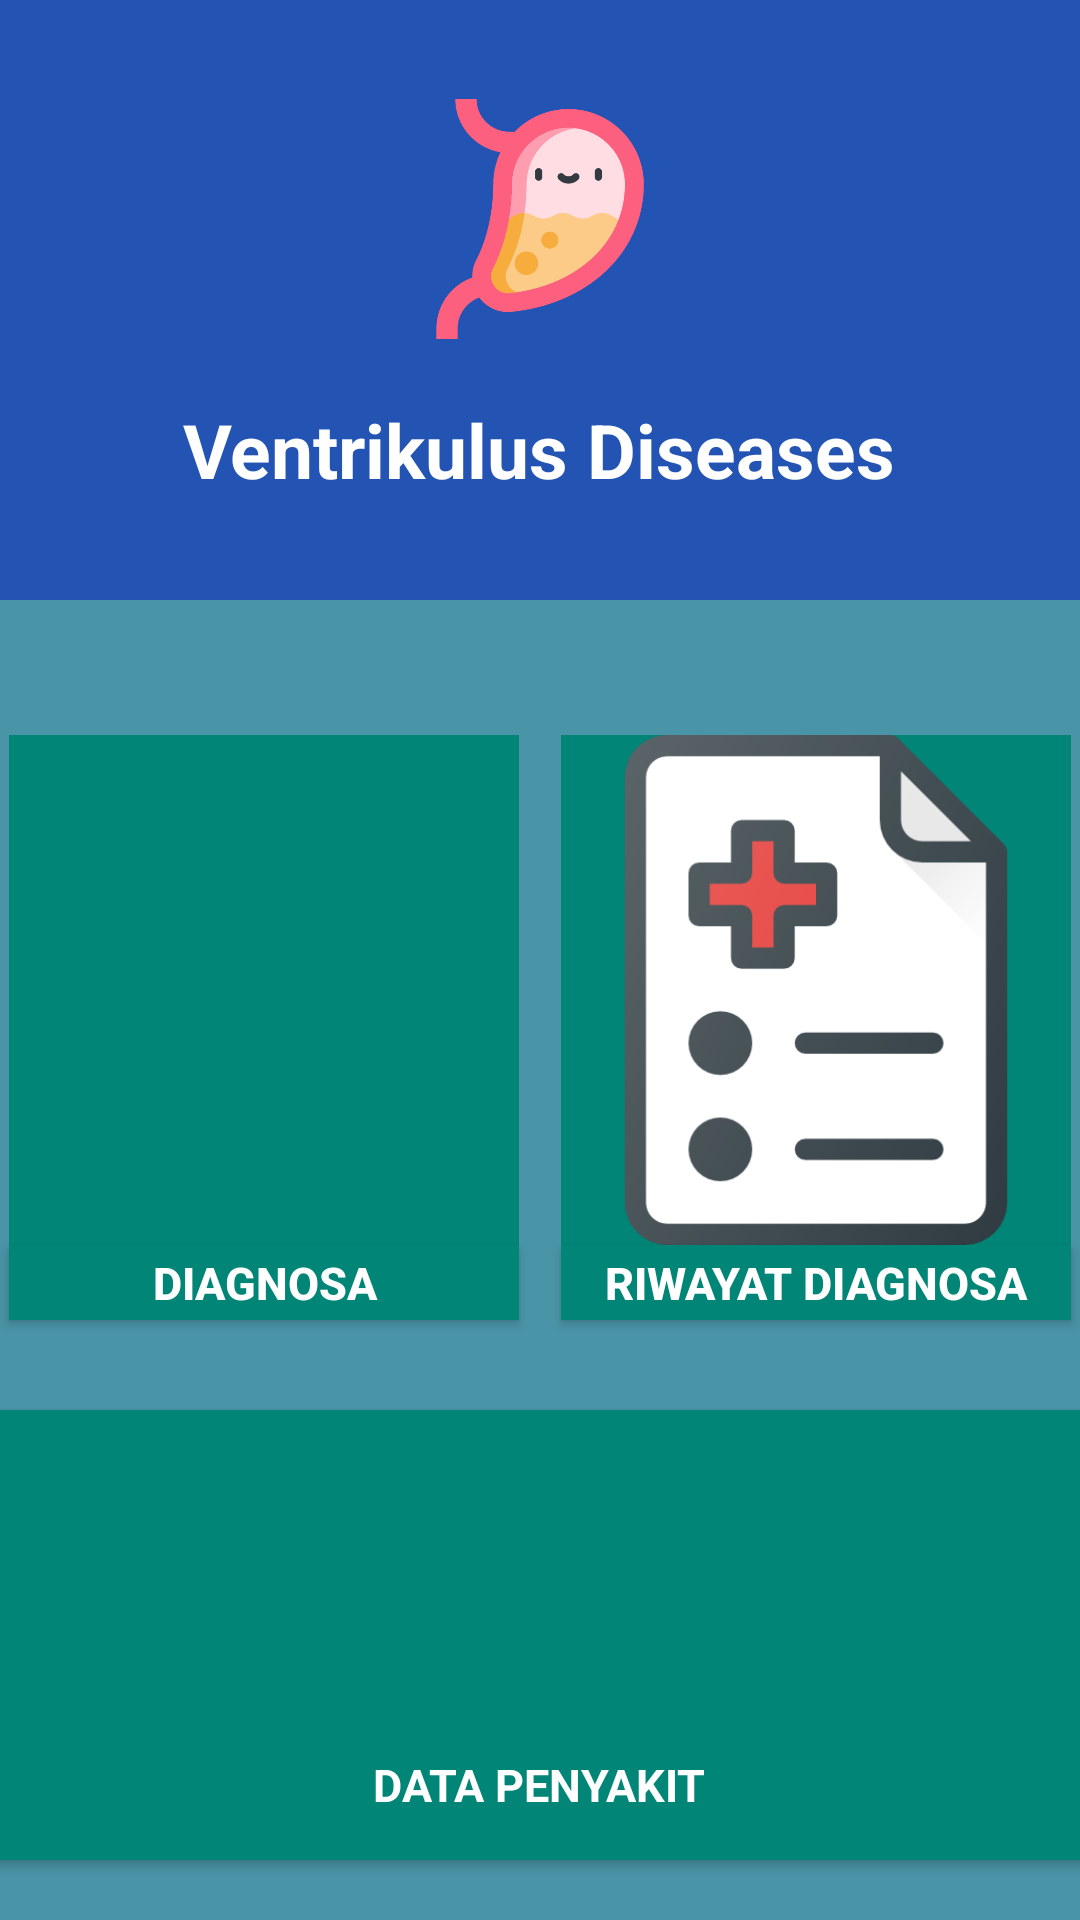

Icons on this 1080x1920 Android screen, each with the point to tap as [x,y]:
lambung: [540,219]
